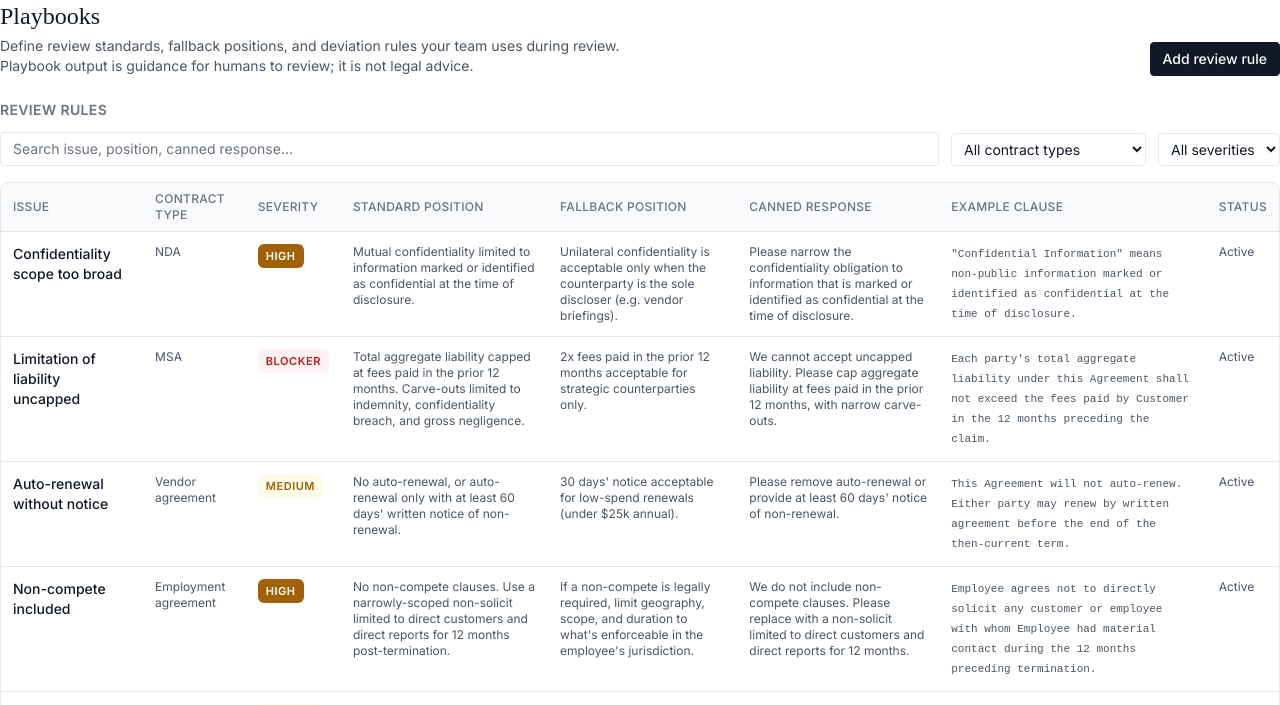
Scenario: PlaybooksPage › renders an honest real-mode note inside the editor modal (no fake server persistence)
The width and height of the screenshot is (1280, 705).
Click the button with test id "playbooks-add-rule" at (1215, 59), box [1150, 42, 1279, 76]
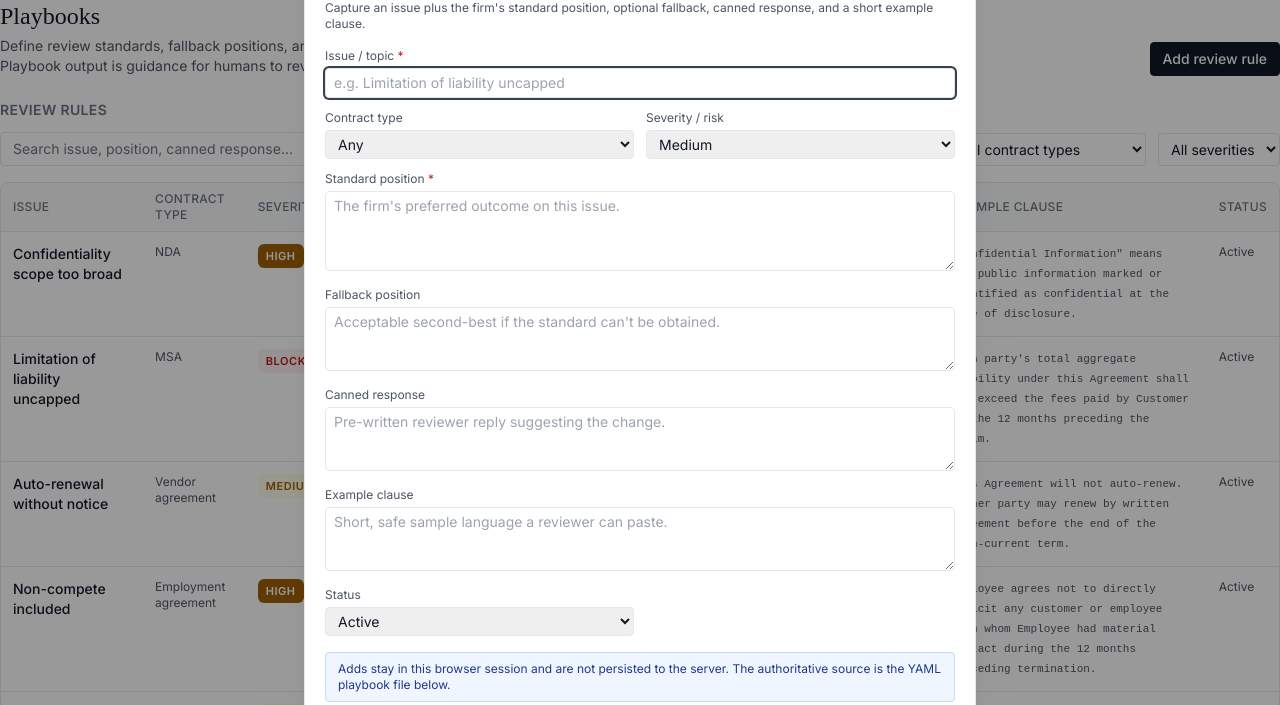
Expected: the text with test id "review-rule-real-note" shows "not persisted to the server", [338, 661, 941, 692]
